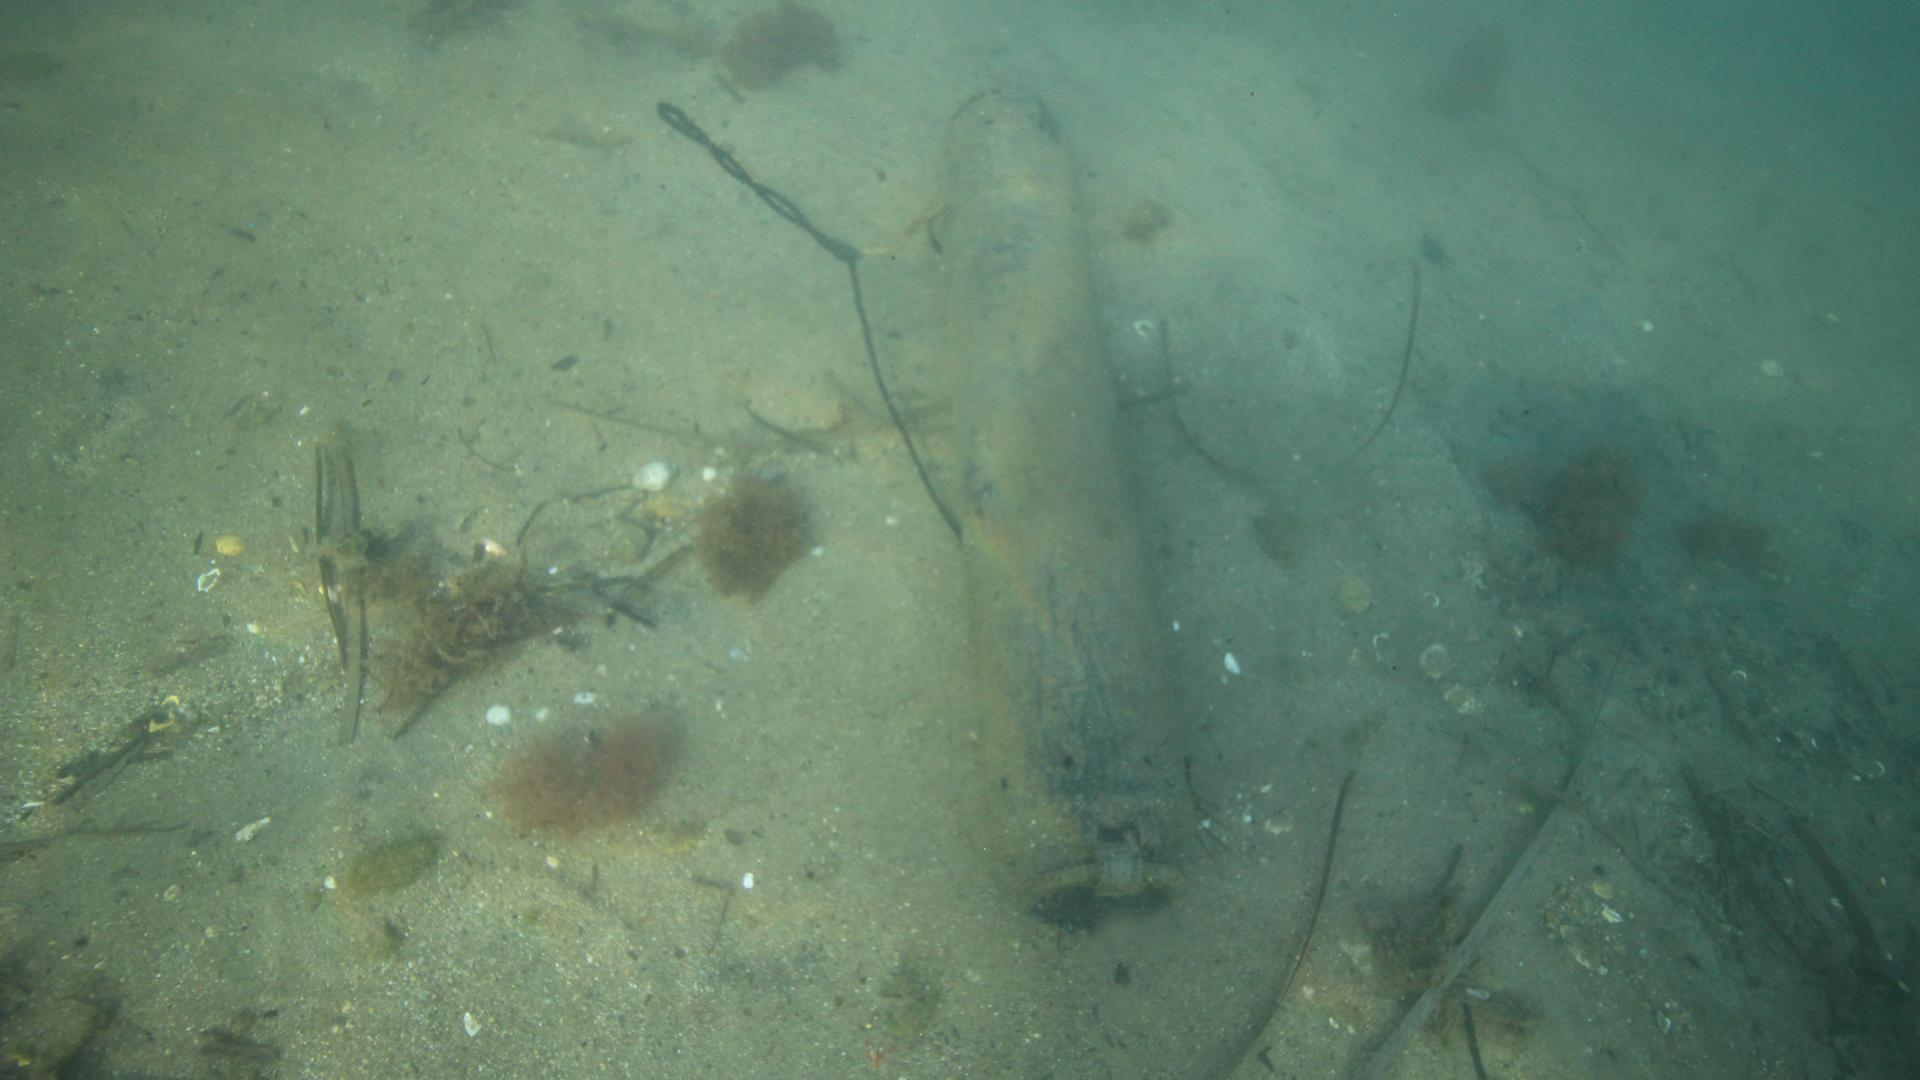eel fish trap: (938, 84, 1176, 922)
rope: (651, 96, 967, 541)
